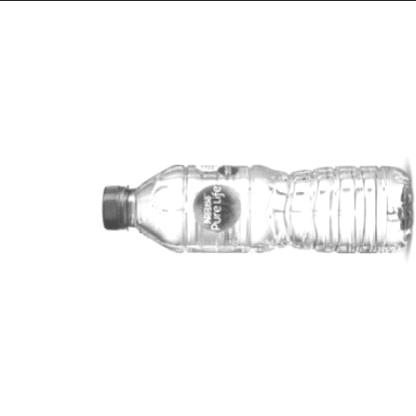bottle: (100, 159, 415, 255)
